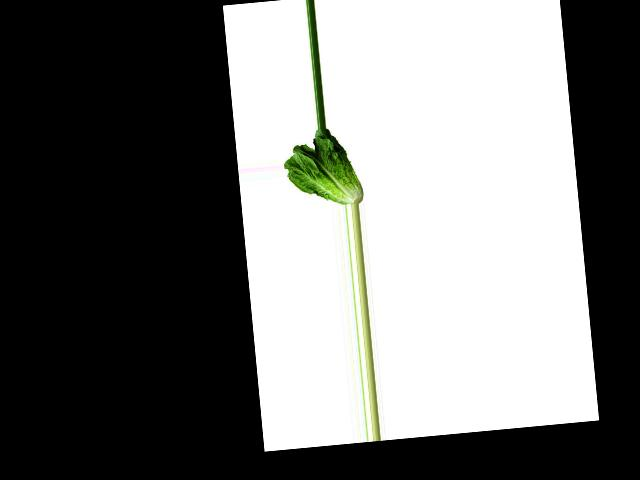lettuce: (280, 127, 364, 209)
